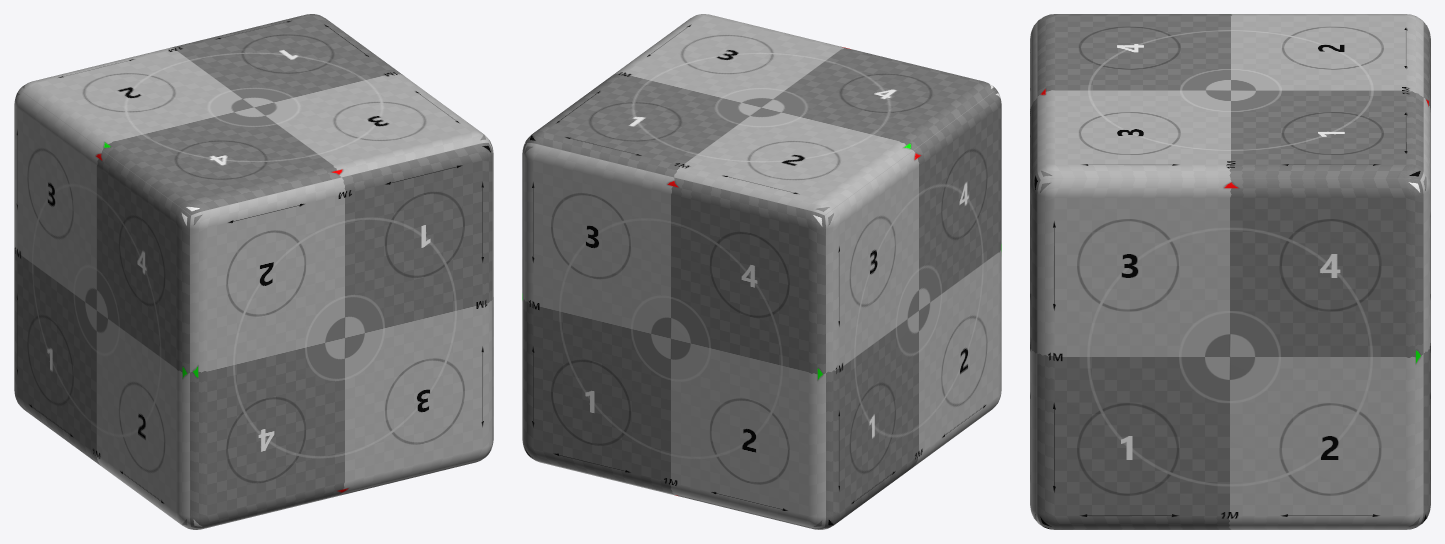
Rendered from BeveledCube.fbx.
The picture shows the model from 3 angles, left to right: view 1: azimuth 30°, elevation 25°; view 2: azimuth 150°, elevation 25°; view 3: azimuth 270°, elevation 25°; orthographic projection. The views are drawn at different scales.
Parts seen in each view (by area): view 1: BeveledCube_UV_world_1m; view 2: BeveledCube_UV_world_1m; view 3: BeveledCube_UV_world_1m.
Part boxes in pixels (left/top/right/bottom): BeveledCube_UV_world_1m: left=14, top=14, right=493, bottom=529; BeveledCube_UV_world_1m: left=522, top=14, right=1001, bottom=529; BeveledCube_UV_world_1m: left=1030, top=14, right=1430, bottom=529.
Bounding box in the file's own units: 1 × 1 × 1.
1 material, 1 textured.
